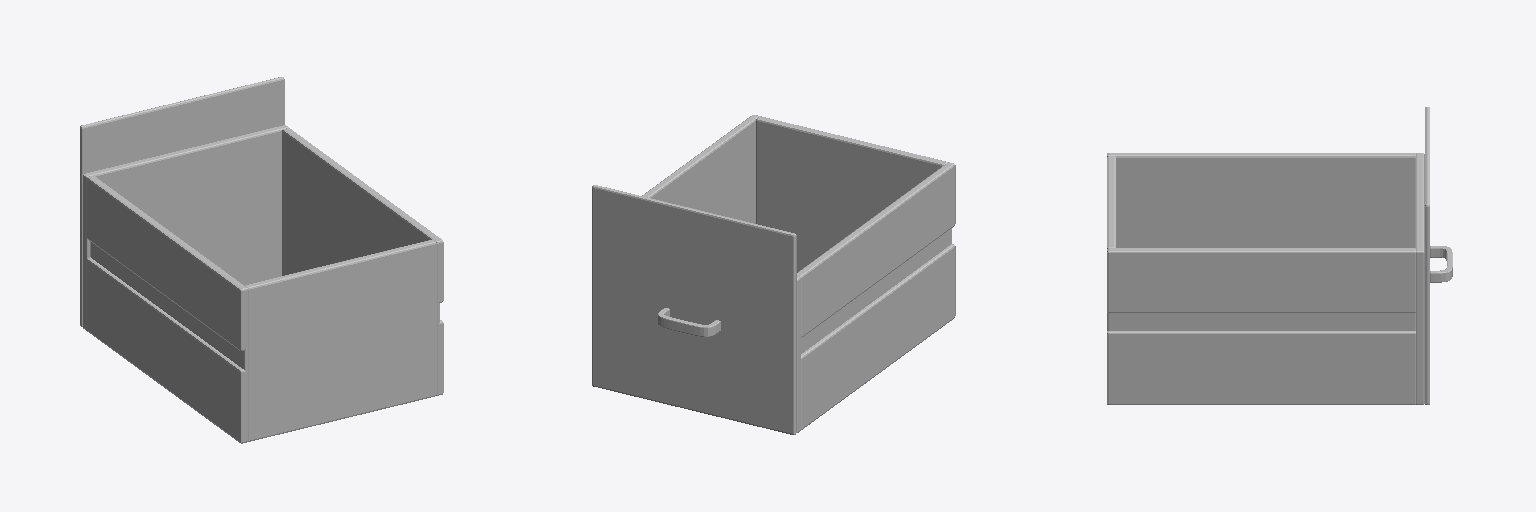
File: Tiroir_To_Dupe.obj
3 views of the same model, side by side, from view 1: azimuth 30°, elevation 25°; view 2: azimuth 150°, elevation 25°; view 3: azimuth 270°, elevation 25° (orthographic).
Parts seen in each view (by area): view 1: Drawer_01; view 2: Drawer_01; view 3: Drawer_01.
Part boxes in pixels (bbox=[...]): Drawer_01: bbox=[80, 77, 443, 443]; Drawer_01: bbox=[592, 115, 955, 434]; Drawer_01: bbox=[1107, 107, 1452, 404].
Bounding box in the file's own units: 0.344 × 0.3249 × 0.507.